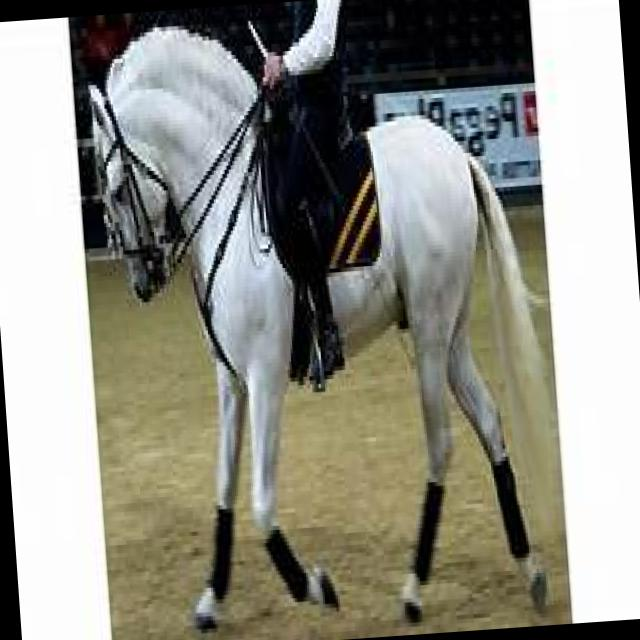animal: (82, 4, 550, 638)
